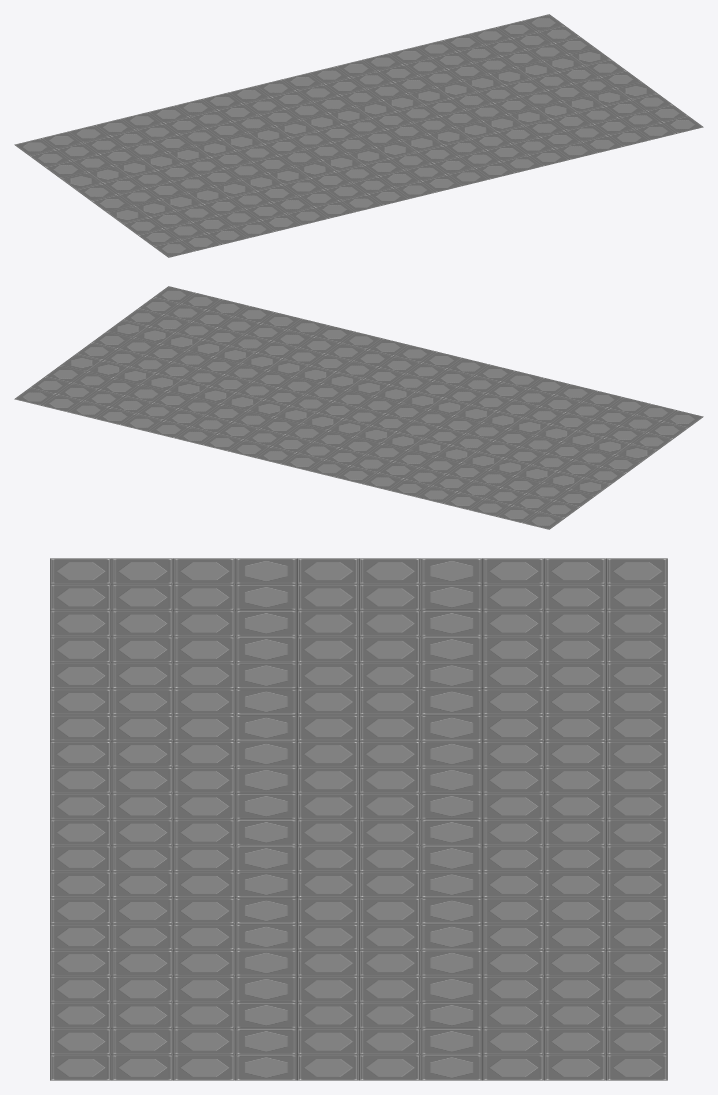
Rendered from Parking_GameTiles_000.fbx.
The picture shows the model from 3 angles, top to bottom: view 1: azimuth 30°, elevation 25°; view 2: azimuth 150°, elevation 25°; view 3: azimuth 270°, elevation 25°; orthographic projection. The views are drawn at different scales.
Visible parts, largest first — view 1: Tile_Floor; view 2: Tile_Floor; view 3: Tile_Floor.
Boxes of the visible parts, x1,y1,x2,y2 form: Tile_Floor: (14,14,703,257); Tile_Floor: (14,286,703,529); Tile_Floor: (50,558,667,1080).
Bounding box in the file's own units: 20 × 7.63e-08 × 10.
